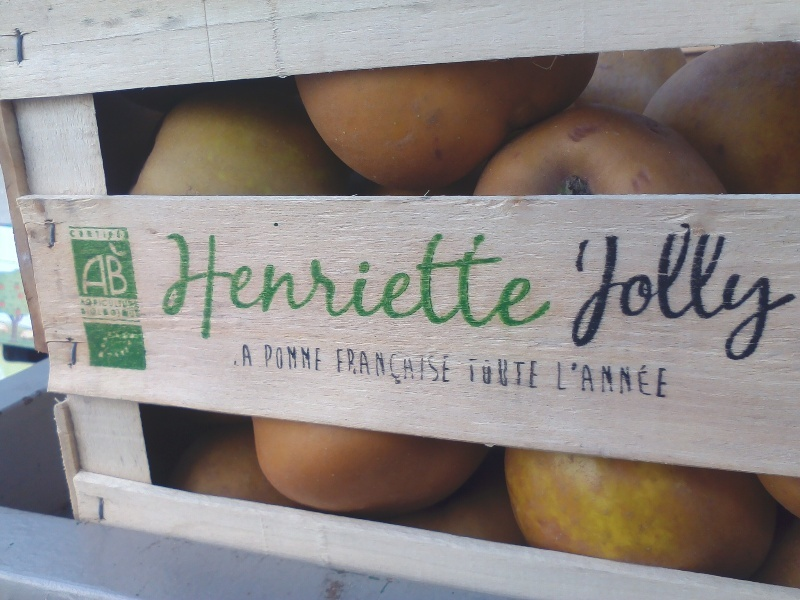text: (577, 215, 592, 367), (593, 215, 608, 367), (609, 215, 624, 367), (625, 215, 640, 367), (641, 215, 656, 367), (657, 215, 672, 367), (673, 215, 688, 367), (689, 215, 704, 367), (705, 215, 720, 367), (721, 215, 736, 367), (737, 215, 752, 367), (753, 215, 768, 367), (769, 215, 784, 367), (785, 215, 798, 367), (177, 223, 192, 347), (193, 223, 208, 347), (209, 223, 224, 347), (225, 223, 240, 347), (241, 223, 256, 347), (257, 223, 272, 347), (273, 223, 288, 347), (289, 223, 304, 347), (305, 223, 320, 347), (321, 223, 336, 347), (337, 223, 352, 347), (353, 223, 368, 347), (369, 223, 384, 347), (385, 223, 400, 347), (401, 223, 416, 347), (417, 223, 432, 347), (433, 223, 448, 347), (449, 223, 464, 347), (465, 223, 480, 347), (481, 223, 496, 347), (497, 223, 512, 347), (513, 223, 528, 347), (529, 223, 544, 347), (162, 223, 176, 347), (545, 223, 559, 347), (657, 359, 673, 402), (97, 254, 112, 298), (113, 254, 128, 298), (561, 359, 576, 402), (577, 359, 592, 402), (593, 359, 608, 402), (609, 359, 624, 402), (625, 359, 640, 402), (641, 359, 656, 402), (82, 254, 96, 298), (337, 347, 352, 388), (353, 347, 368, 388), (369, 347, 384, 388), (385, 347, 400, 388), (401, 347, 416, 388), (417, 347, 432, 388), (433, 347, 448, 388), (572, 215, 576, 367), (481, 358, 496, 390), (497, 358, 512, 390), (513, 358, 528, 390), (273, 344, 288, 372), (289, 344, 304, 372), (305, 344, 320, 372), (467, 358, 480, 390), (529, 358, 542, 390), (241, 344, 254, 369), (81, 299, 96, 319), (97, 299, 112, 319), (113, 299, 128, 319), (554, 359, 560, 402), (129, 299, 140, 319), (265, 344, 272, 372), (81, 229, 96, 242), (97, 229, 112, 242), (113, 229, 128, 242), (321, 344, 326, 372), (129, 254, 132, 298), (70, 229, 80, 242), (449, 347, 452, 388), (129, 229, 131, 242), (79, 299, 80, 319)
